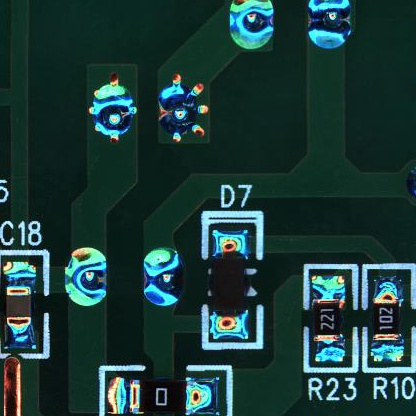spot: (156, 71, 213, 145), (87, 73, 136, 146), (61, 247, 111, 310), (141, 245, 187, 308), (223, 1, 277, 53), (301, 1, 356, 51)
